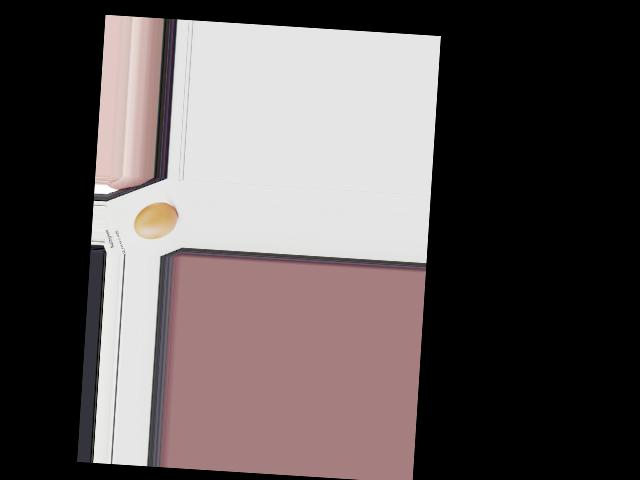egg: (133, 200, 178, 240)
